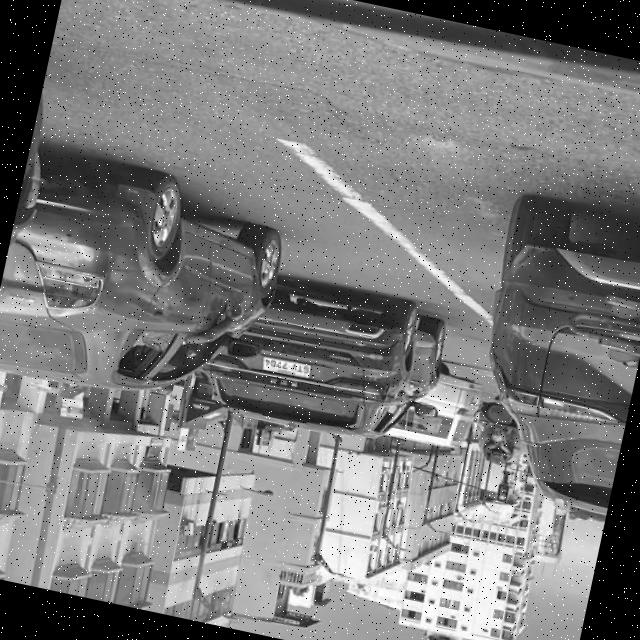Placa: (263, 357, 311, 377)
